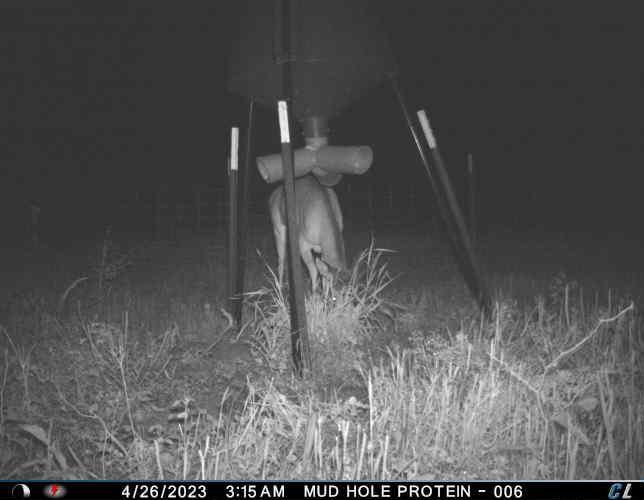Deer: (269, 176, 364, 304)
